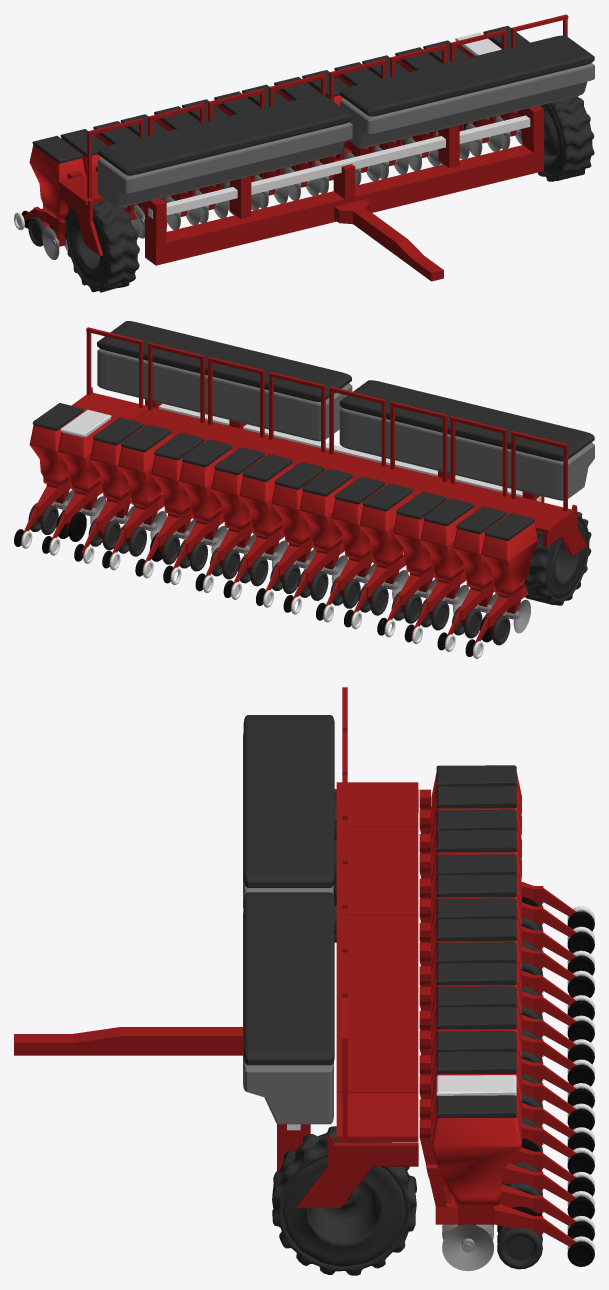
Rendered from plantadeira.glb.
3 views of the same model, one above another, from view 1: azimuth 30°, elevation 25°; view 2: azimuth 150°, elevation 25°; view 3: azimuth 270°, elevation 25° (orthographic). The views are drawn at different scales.
Visible parts, largest first — view 1: Cube.010, rodas tras, tampa.021, tampa.022, caixa de semente, caixa de semente .001, Cube.008, Cube.009, corpo pote.020, Cube.001, base direita, Cube.011 (+30 smaller); view 2: caixa de semente, caixa de semente .001, tampa.021, tampa.022, rodas tras, corpo pote.020, Cube.001, Cube, Cube.007, Cube.003, Cube.002, Cube.005 (+51 smaller); view 3: tampa.022, tampa.021, rodas tras, corpo pote, Cube.009, Cube.007, caixa de semente .001, base esquerda, Cube.006, Cube.003, Cube.001, Cube.004 (+38 smaller).
Part boxes in pixels (<box>): Cube.010: <box>145,145,543,265</box>; rodas tras: <box>64,96,594,292</box>; tampa.021: <box>97,94,352,175</box>; tampa.022: <box>340,35,594,116</box>; caixa de semente: <box>98,122,352,207</box>; caixa de semente .001: <box>340,63,594,148</box>; Cube.008: <box>148,115,530,218</box>; Cube.009: <box>334,199,443,281</box>; corpo pote.020: <box>29,145,85,218</box>; Cube.001: <box>58,118,144,204</box>; base direita: <box>59,186,103,255</box>; Cube.011: <box>145,198,166,245</box>; caixa de semente: <box>339,408,594,500</box>; caixa de semente .001: <box>97,348,352,441</box>; tampa.021: <box>339,380,594,461</box>; tampa.022: <box>97,321,351,401</box>; rodas tras: <box>103,492,591,605</box>; corpo pote.020: <box>481,522,537,596</box>; Cube.001: <box>496,431,575,533</box>; Cube: <box>436,416,511,511</box>; Cube.007: <box>72,327,147,422</box>; Cube.003: <box>375,401,450,497</box>; Cube.002: <box>314,386,390,481</box>; Cube.005: <box>193,357,268,452</box>; tampa.022: <box>243,892,334,1065</box>; tampa.021: <box>243,715,334,887</box>; rodas tras: <box>272,797,416,1275</box>; corpo pote: <box>431,1102,521,1206</box>; Cube.009: <box>14,1027,242,1055</box>; Cube.007: <box>336,997,418,1142</box>; caixa de semente .001: <box>243,910,333,1124</box>; base esquerda: <box>296,1133,418,1207</box>; Cube.006: <box>336,952,418,1092</box>; Cube.003: <box>336,775,418,915</box>; Cube.001: <box>336,687,418,826</box>; Cube.004: <box>336,864,418,1003</box>.
Size of the model in its own units: 4.81 by 1.49 by 3.3.
Materials: 15 (1 with a texture image).
